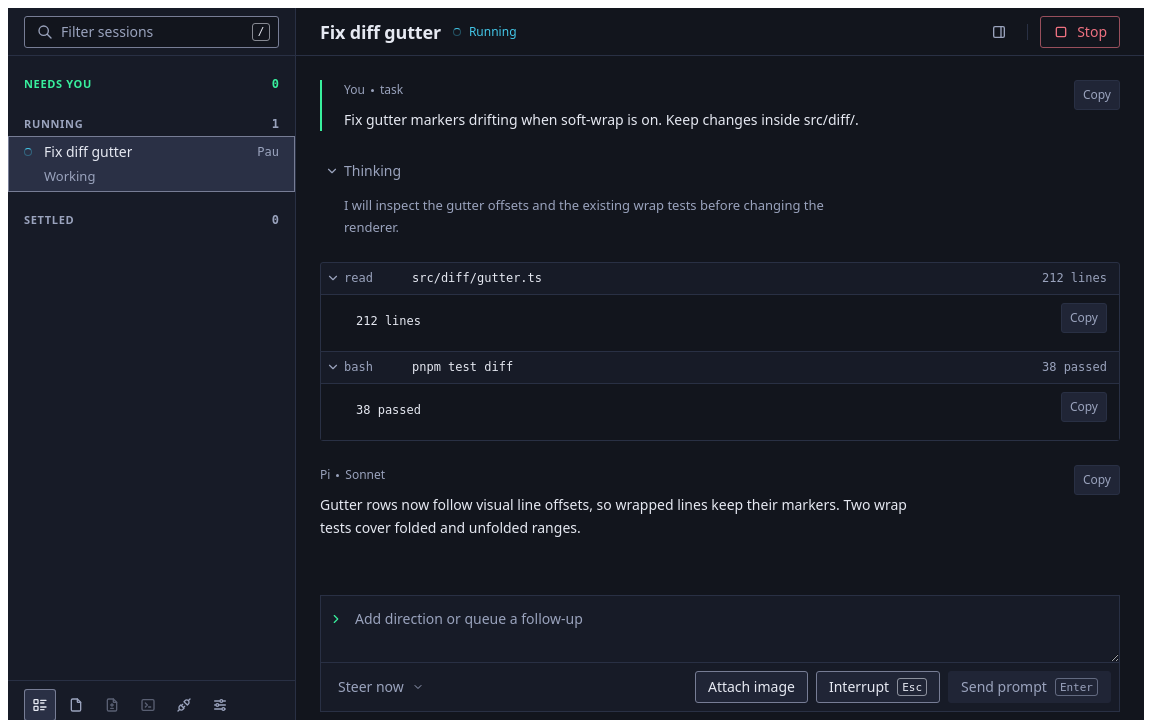
it: shows a prompt queued during a run in the queue until Pi lists it
The width and height of the screenshot is (1152, 720).
Type "Keep the API stable." into the text box named "Prompt" at (731, 629), box [343,596,1119,662]
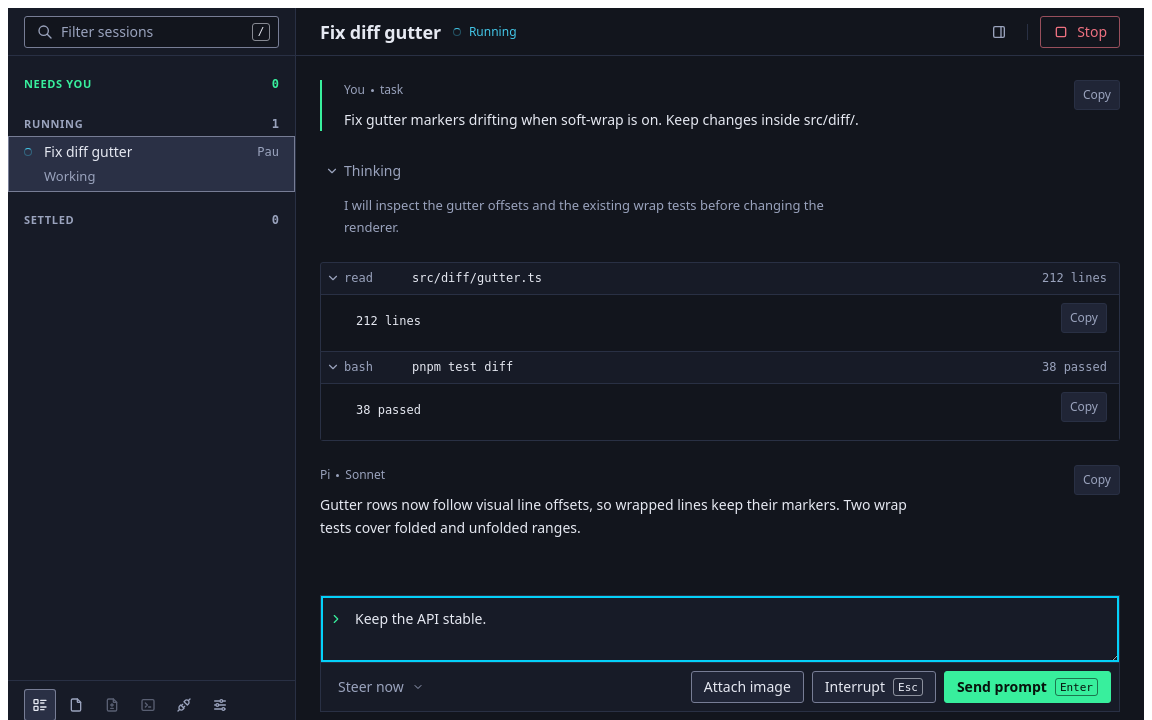
Type keys "{Control>}{Enter}{/Control}"
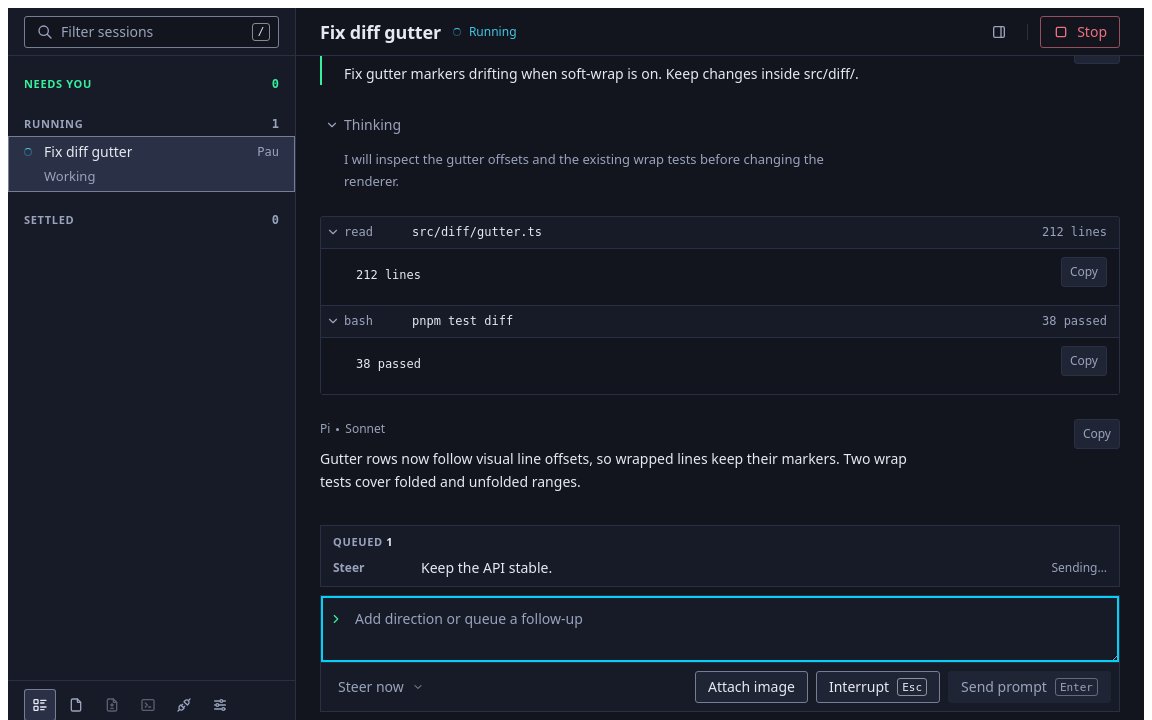
Expected: the text box named "Prompt" is empty, [343,596,1119,662]
Expected: the text "Sending…" is shown, [1052,558,1107,578]
